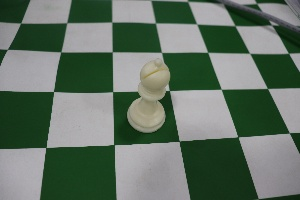white_bishop: (128, 45, 171, 136)
